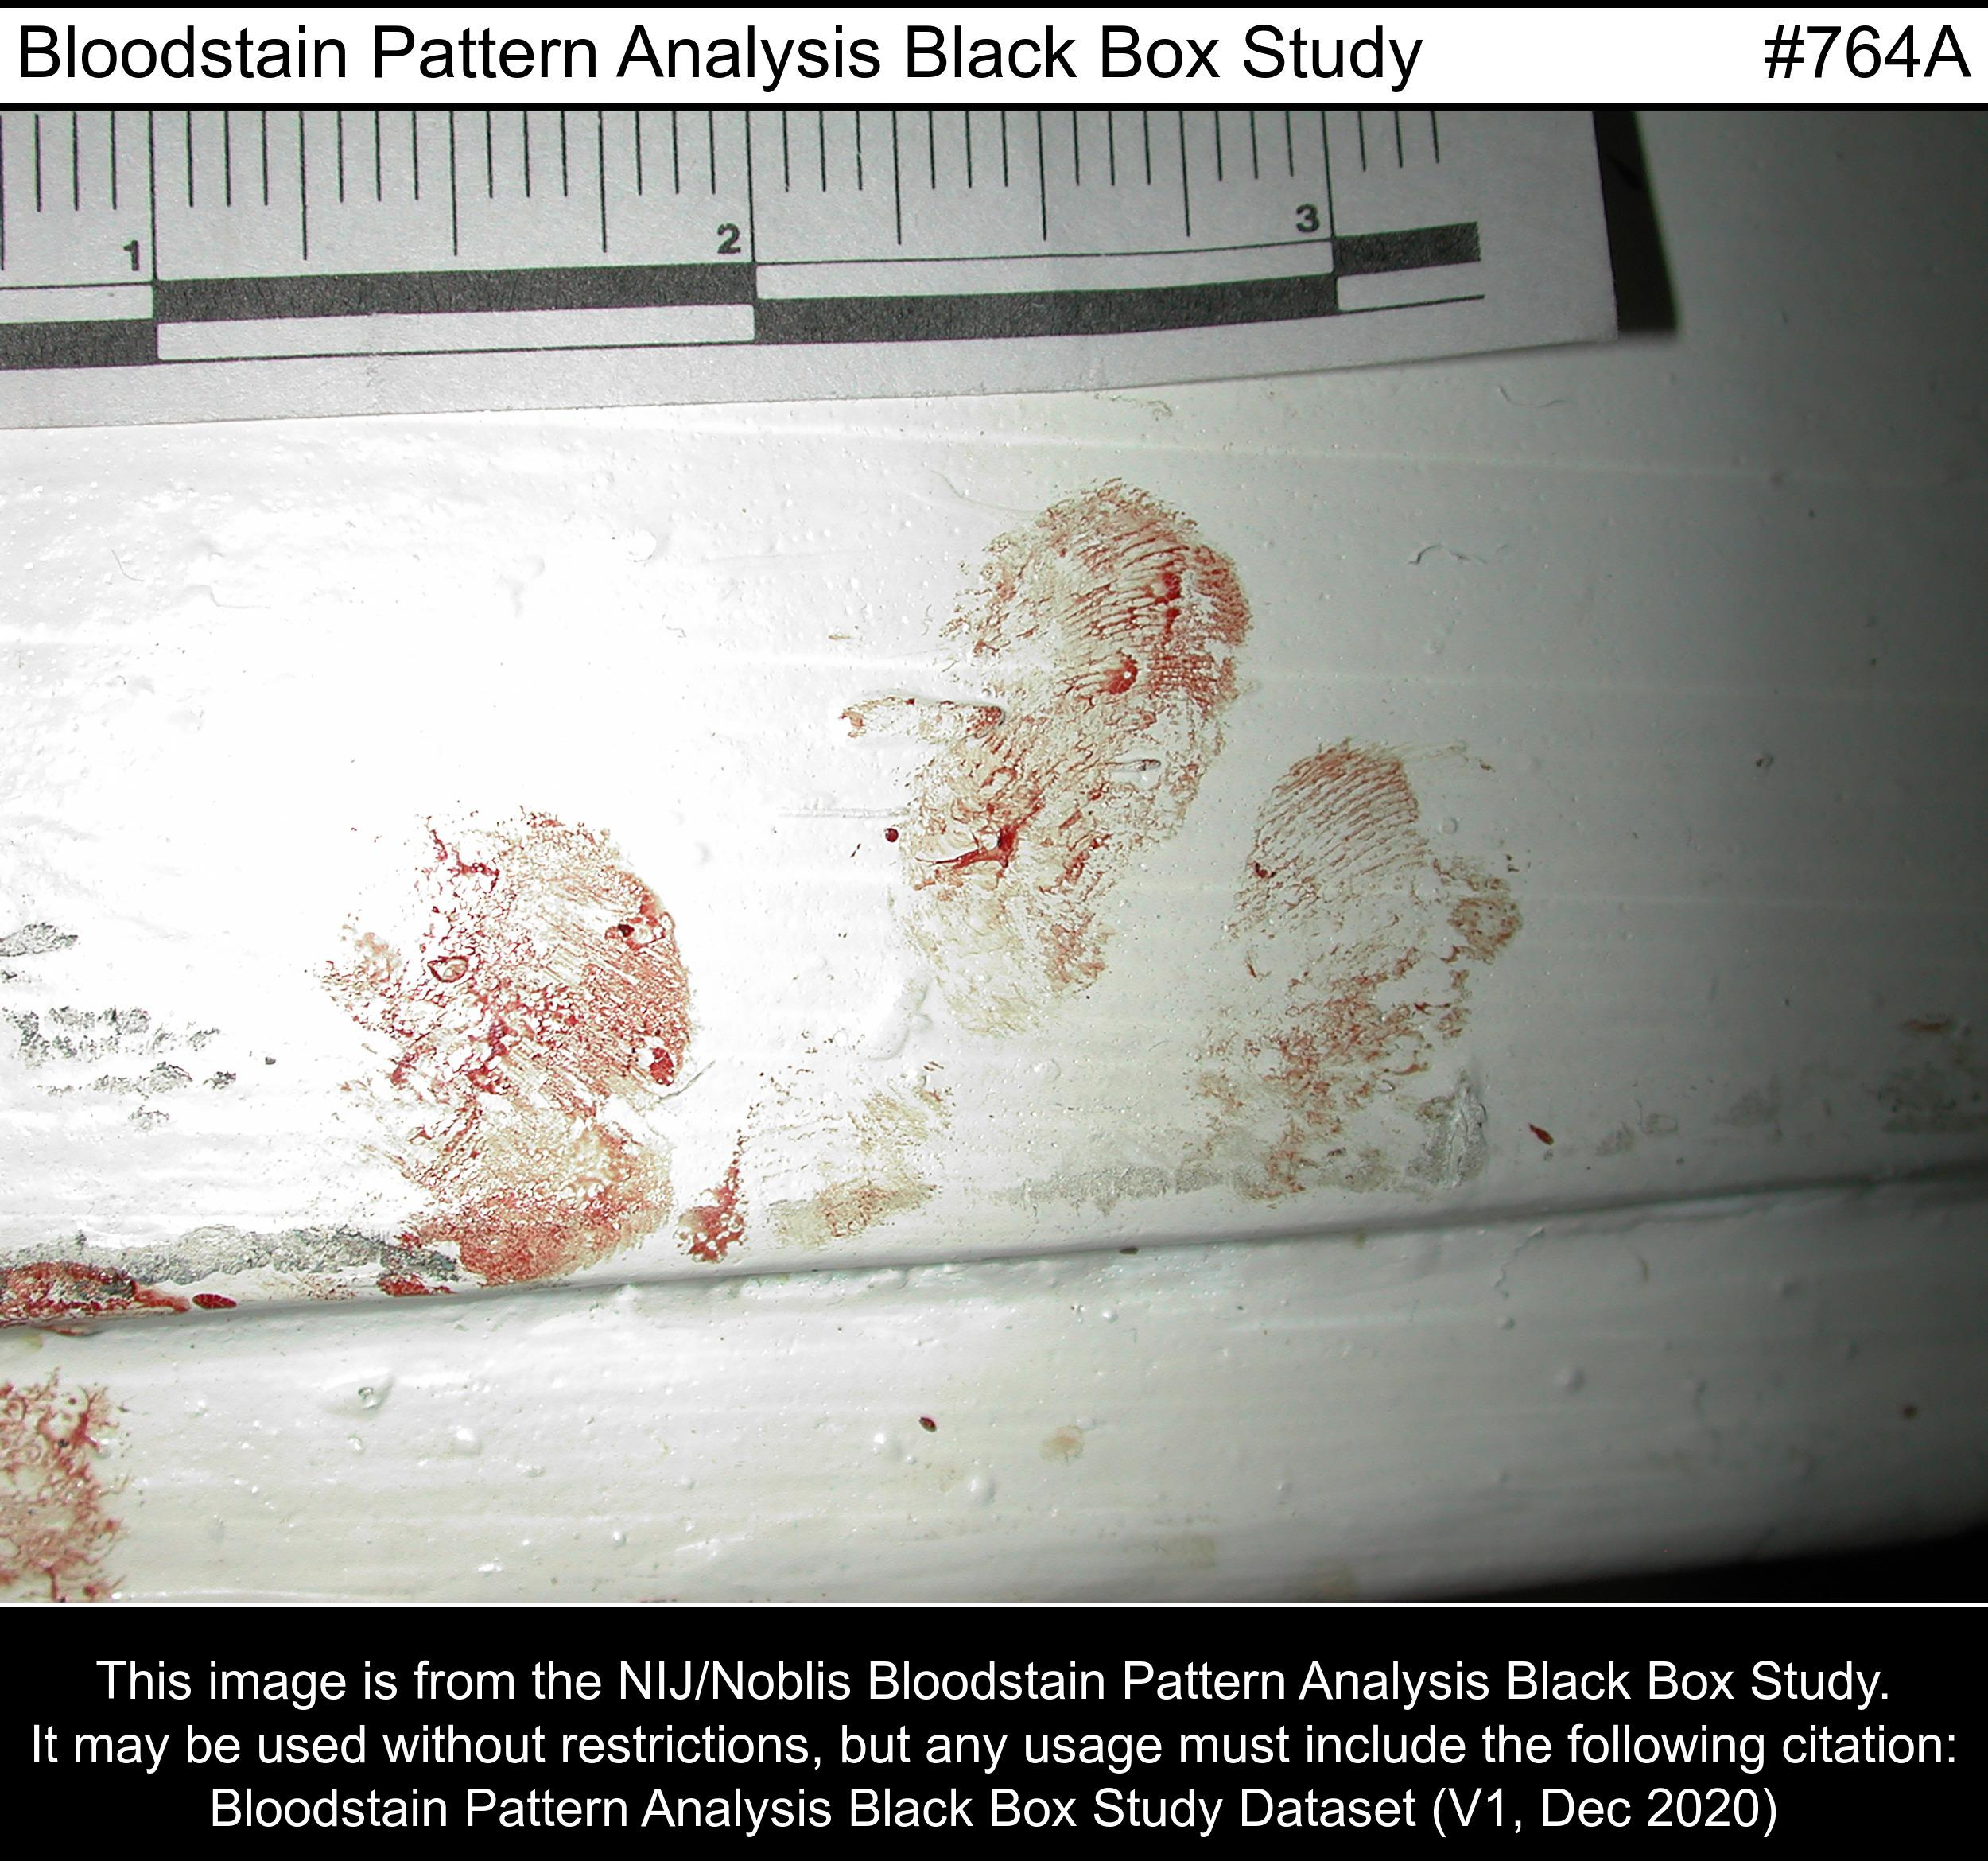Transfer: (871, 477, 1616, 1128), (245, 735, 824, 1382), (12, 1184, 302, 1588)
